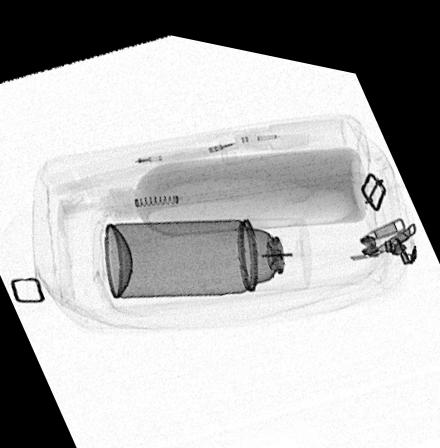Sprayer: (102, 203, 313, 296)
